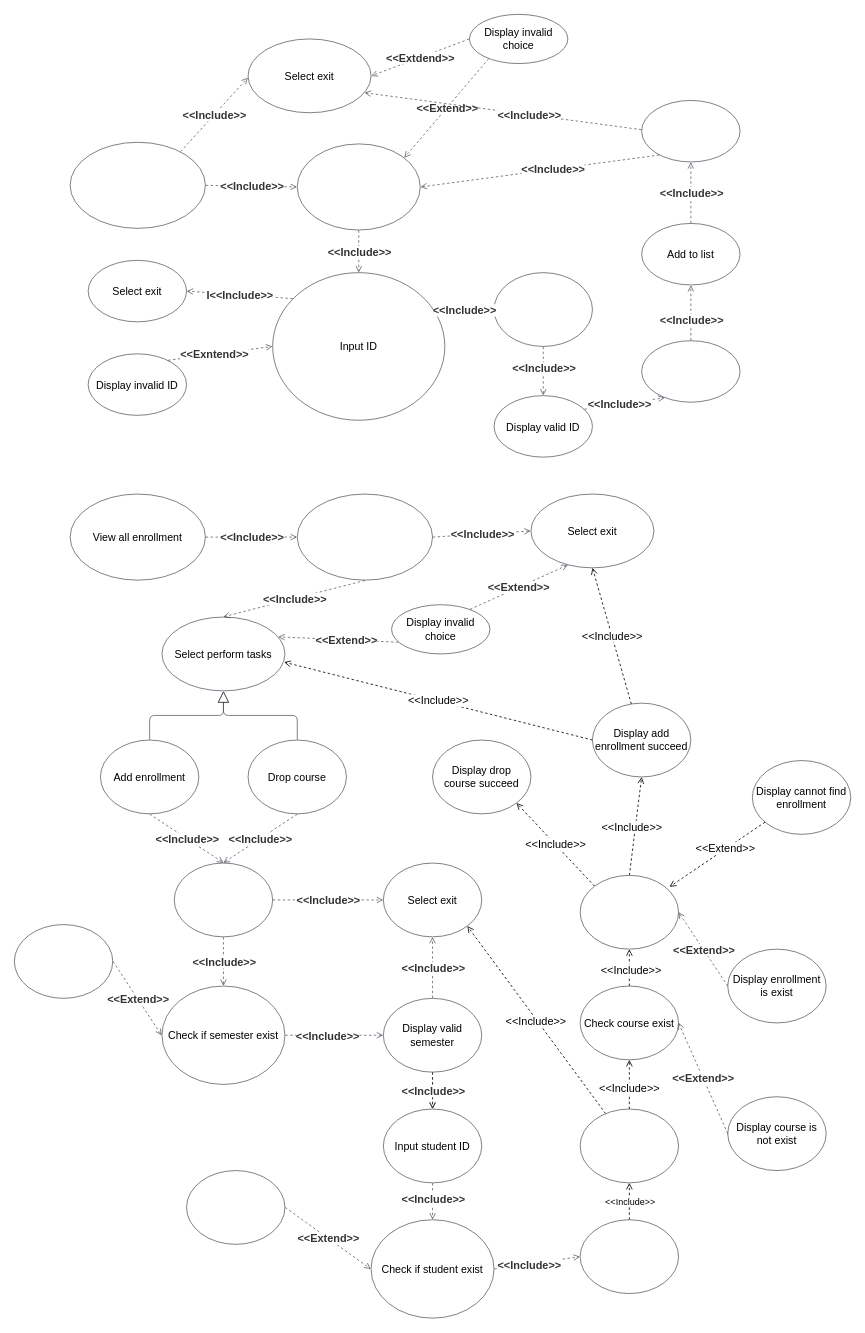
Some shapes in this 865 by 1333 pixel diagram are drawn without their labels. Here are the shapes that lost their labels. From the top down, the centre of each, then its label:
At point 690,131: "Display successfullly".
At point 137,185: "Create new".
At point 358,186: "Select create new student".
At point 542,309: "Check ID exist".
At point 690,371: "Input new data".
At point 364,536: "Display all enrollment".
At point 223,899: "Input semester".
At point 628,912: "Check if enrollment exist".
At point 63,961: "Display semester is not exist".
At point 628,1145: "Input Course ID".
At point 235,1207: "Display student is not exist".
At point 628,1256: "Display valid student".
